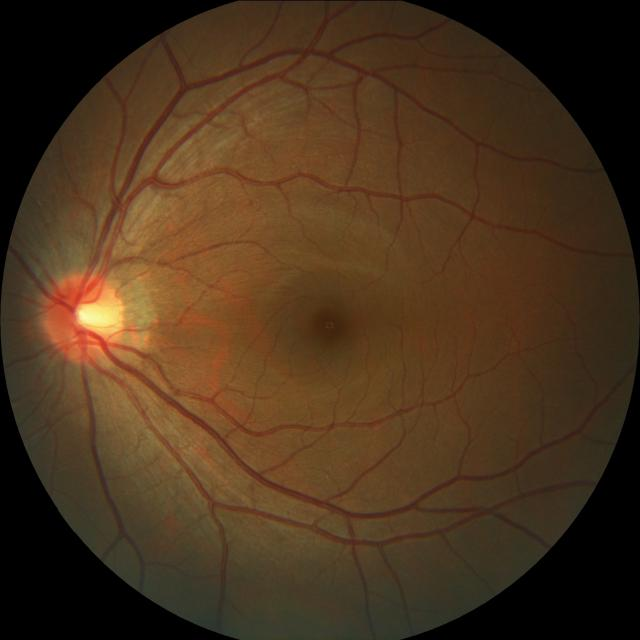OC: (72, 294, 114, 335)
OD: (44, 269, 127, 361)
